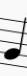note: (3, 14, 26, 71)
